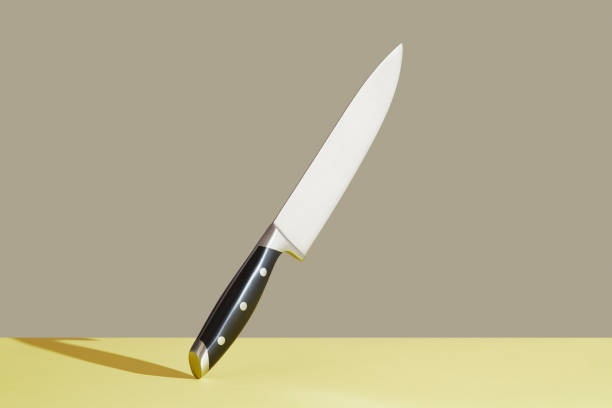knife: (178, 42, 415, 383)
